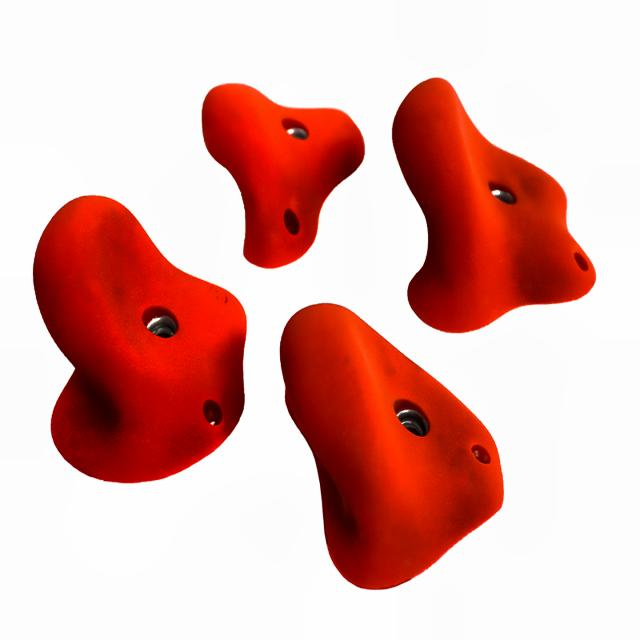Hold: (277, 306, 504, 590), (34, 195, 245, 482), (392, 78, 599, 332), (202, 82, 365, 269)
